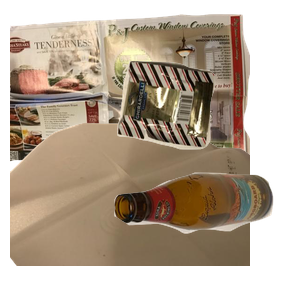glass: (111, 170, 300, 300)
paper: (10, 11, 250, 180)
plastic: (10, 120, 250, 300)
trash: (115, 58, 300, 200)
